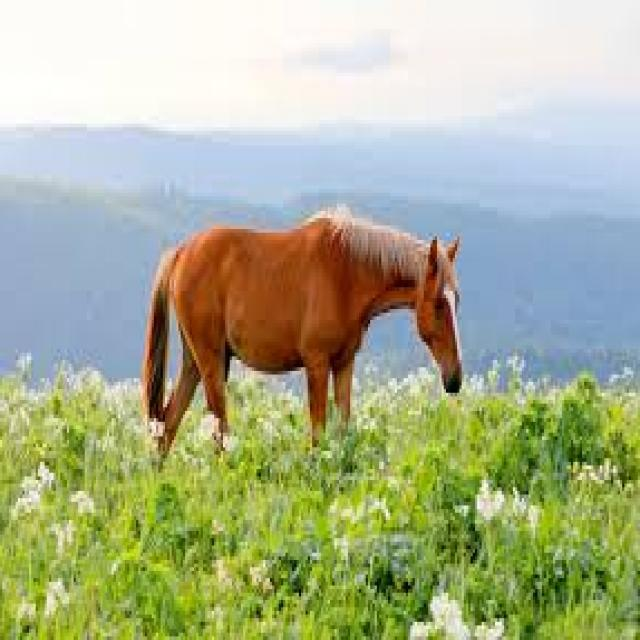horse-standing: (129, 216, 476, 478)
